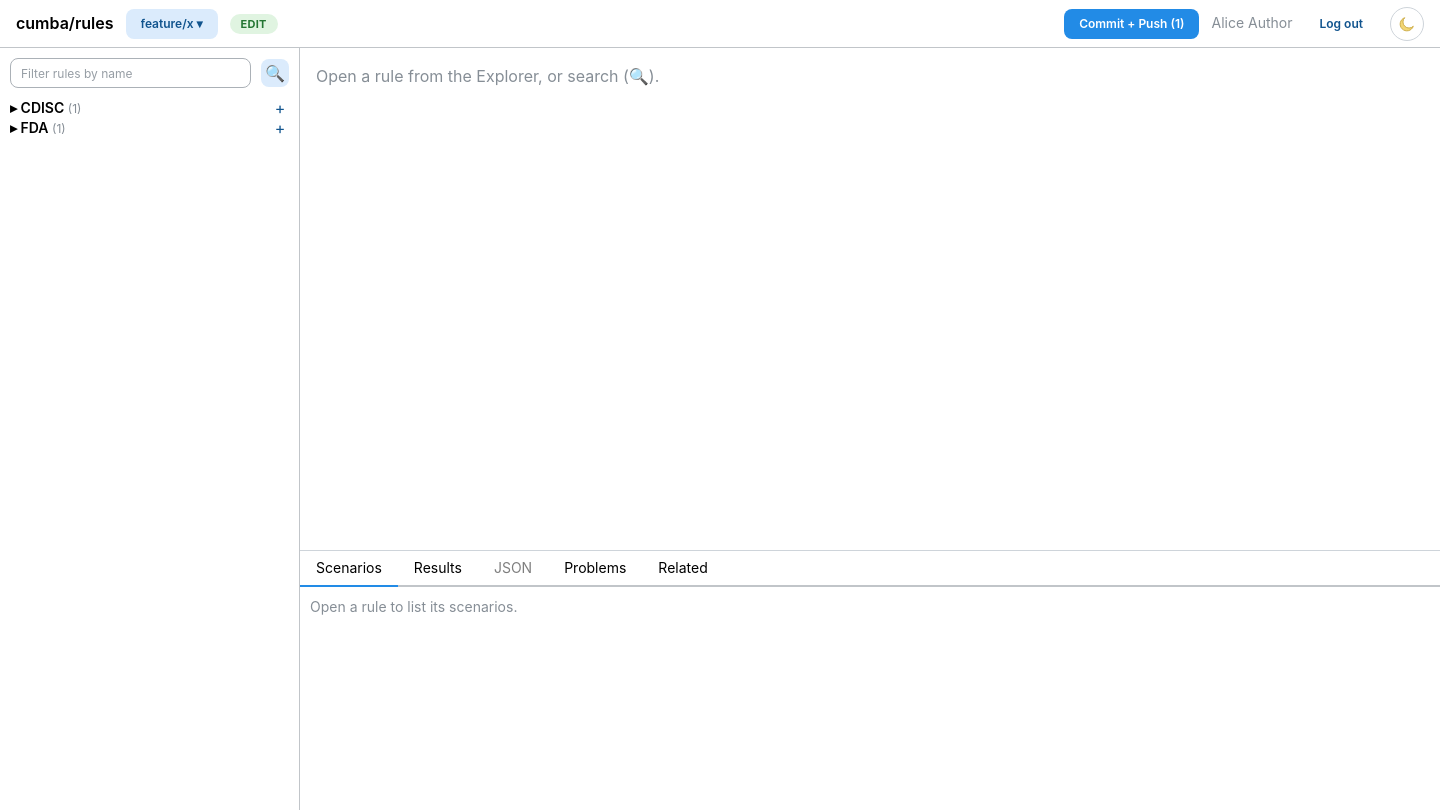
Test case: EditorShell — open, edit, save, push › reports a conflicting update and a failed commit
The width and height of the screenshot is (1440, 810).
What coordinates should you click on to do the following:
click the button "Commit + Push (1)"
I would click on:
 (1132, 24)
Its box is left=1064, top=8, right=1200, bottom=38.
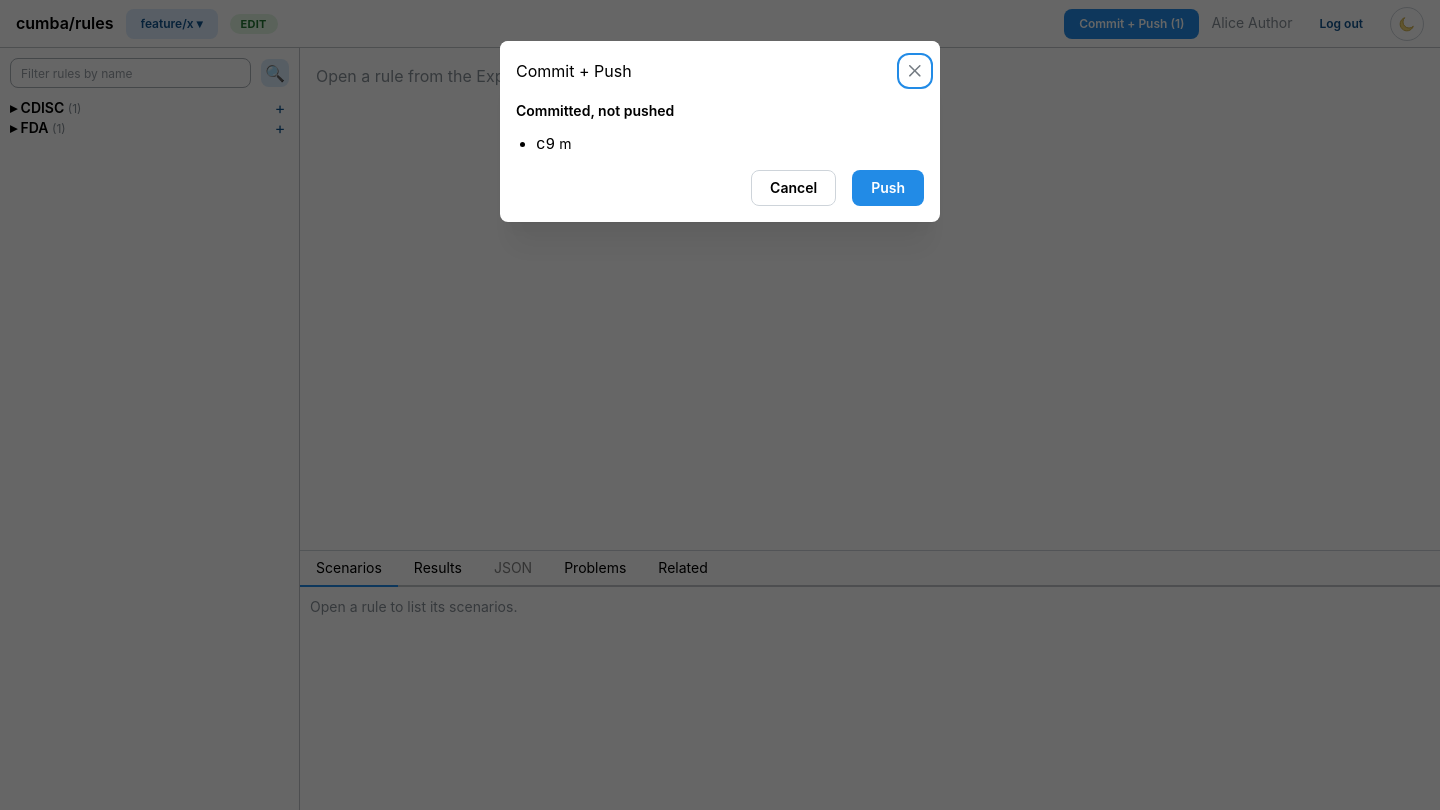
What coordinates should you click on to do the following:
click the button "Push"
I would click on:
 (888, 188)
Its box is left=852, top=170, right=924, bottom=206.
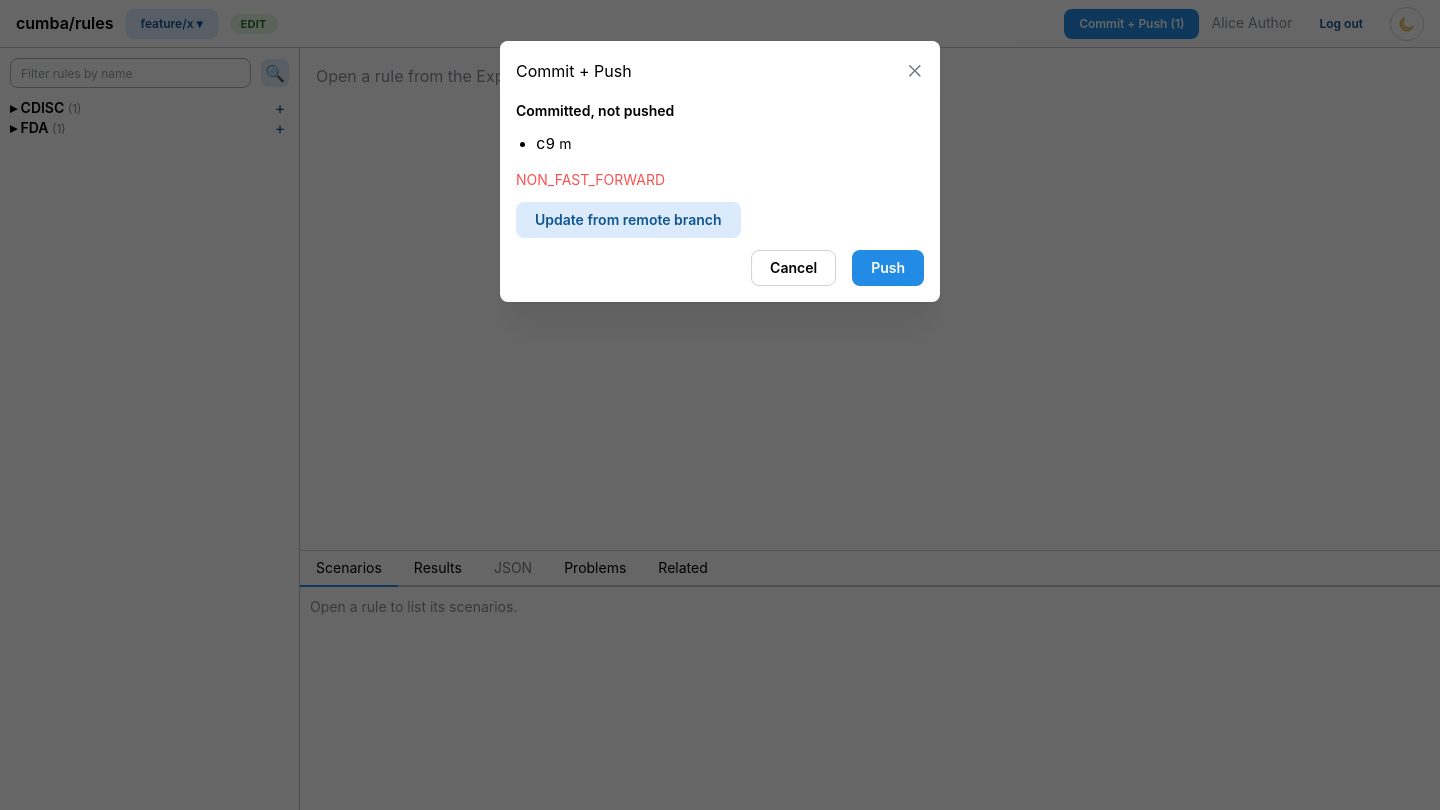
What coordinates should you click on to do the following:
click the button "Update from remote branch"
I would click on:
 (628, 220)
Its box is left=516, top=202, right=740, bottom=238.
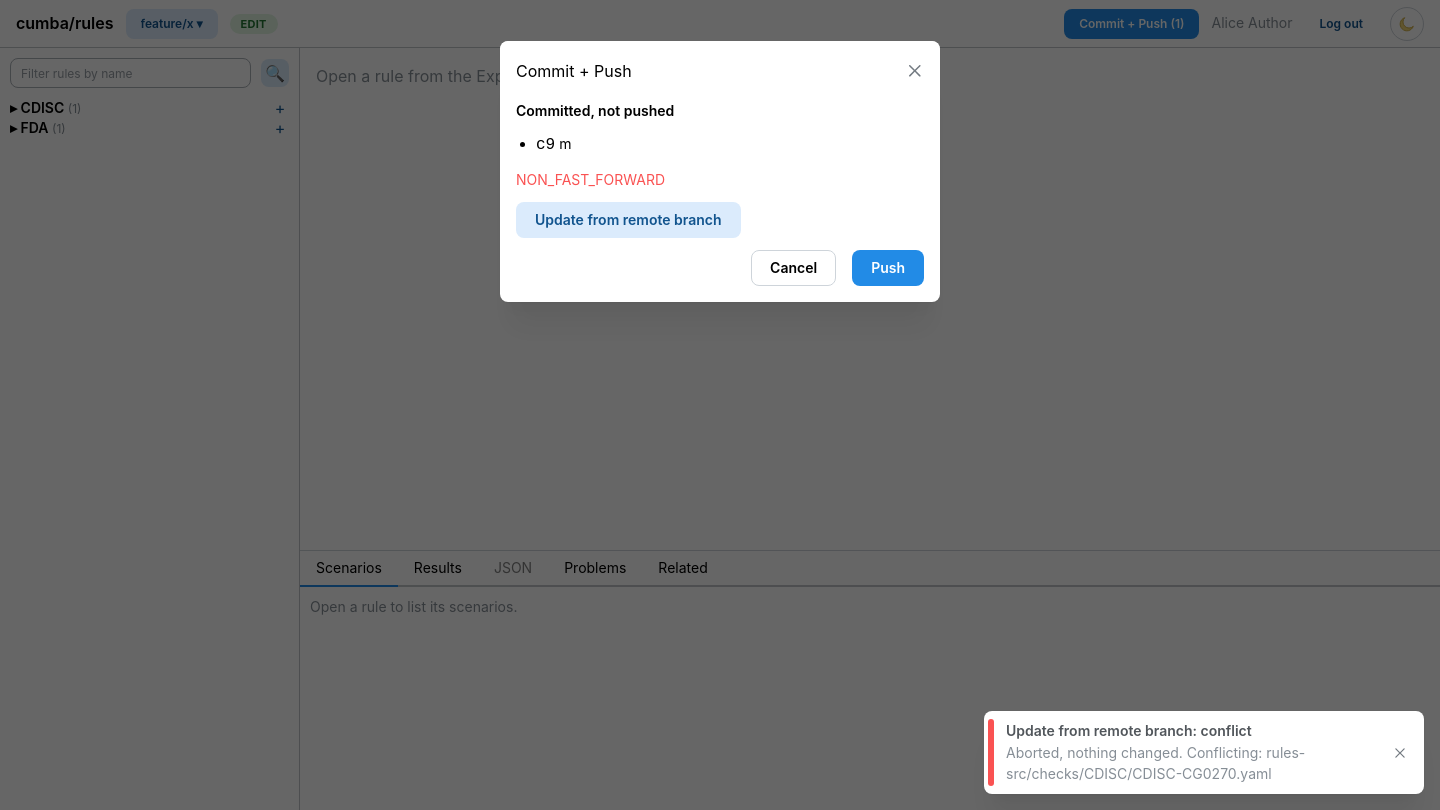
Expected: the text "Conflicting: rules-src" is shown, left=1006, top=744, right=1305, bottom=782
